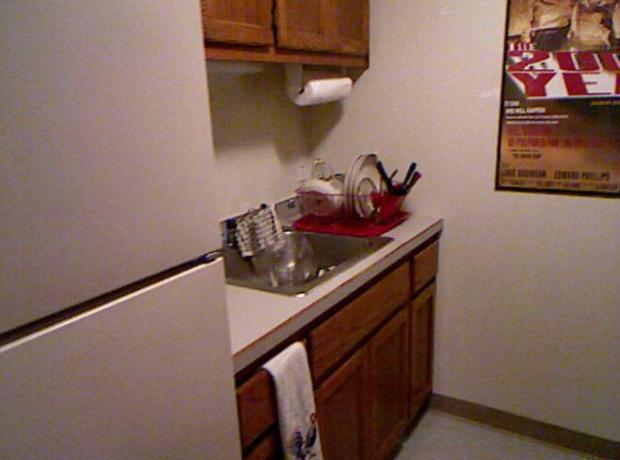Electrodomestico: (0, 3, 237, 457)
Lavaplatos: (216, 200, 395, 312)
